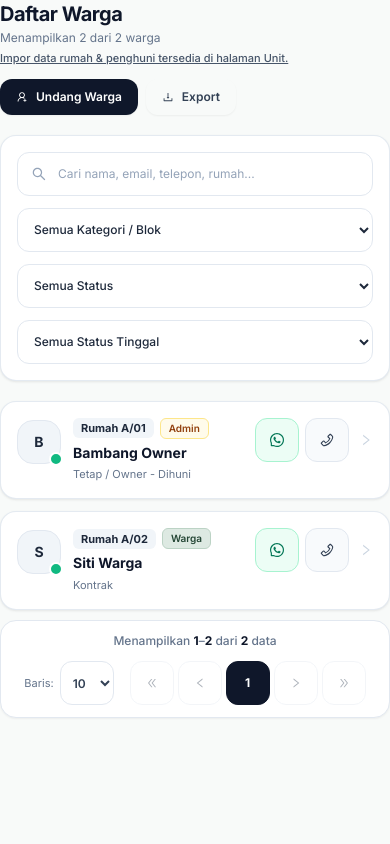
Test: Residents Tenant Mode (RTRW-2.2) › c. keluarkan warga (window.confirm true) -> removeTenantMember dipanggil; deleteResident TIDAK dipanggil; owner tidak punya tombol Keluarkan
Expected: the heading "Bambang Owner" is shown, [73, 444, 187, 460]
// Keluarkan warga biasa (Siti Warga)
Click the heading "Siti Warga" at (108, 563), box [73, 554, 142, 571]
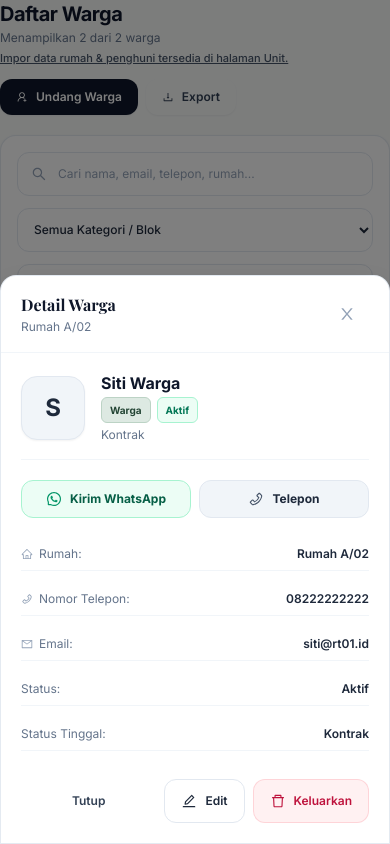
Expected: the button "Keluarkan" is shown
Click the button "Keluarkan" at (311, 801), box [252, 779, 369, 823]
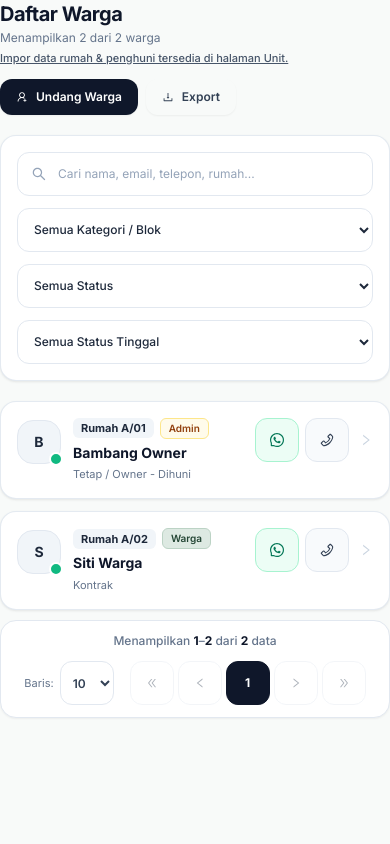
// Periksa Owner (Bambang Owner) tidak memiliki tombol Keluarkan
Click the heading "Bambang Owner" at (130, 452), box [73, 444, 187, 460]
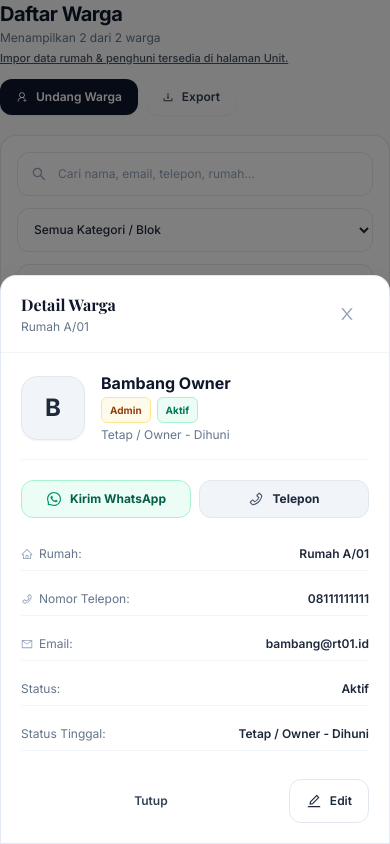
Expected: the button "Keluarkan" is not shown
Expected: the heading "Detail Warga" is shown, [21, 293, 116, 317]
